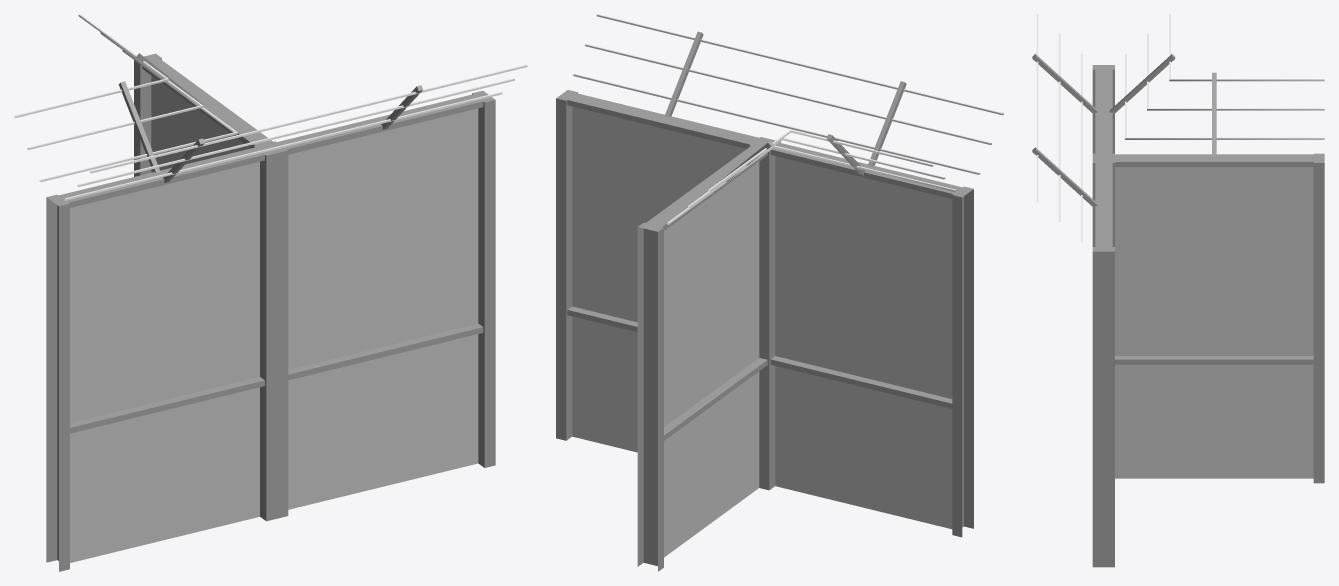
Rendered from SM_Grid_Corner_A_Left_400.FBX.
3 renders of one model, left to right at view 1: azimuth 30°, elevation 25°; view 2: azimuth 150°, elevation 25°; view 3: azimuth 270°, elevation 25°, orthographic. The views are drawn at different scales.
Visible parts, largest first — view 1: SM_Grid_Corner_A_Left_400; view 2: SM_Grid_Corner_A_Left_400; view 3: SM_Grid_Corner_A_Left_400.
Boxes of the visible parts, x1,y1,x2,y2 form: SM_Grid_Corner_A_Left_400: (14, 14, 527, 571); SM_Grid_Corner_A_Left_400: (556, 14, 1003, 571); SM_Grid_Corner_A_Left_400: (1032, 14, 1324, 567).
Size of the model in its own units: 400 by 265 by 377.
